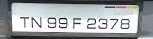2: (86, 17, 97, 29)
3: (98, 18, 108, 30)
7: (109, 17, 119, 30)
8: (120, 18, 131, 30)
9: (57, 17, 69, 29), (47, 17, 57, 29)
F: (71, 16, 83, 30)
N: (31, 16, 43, 29)
T: (18, 15, 30, 29)
